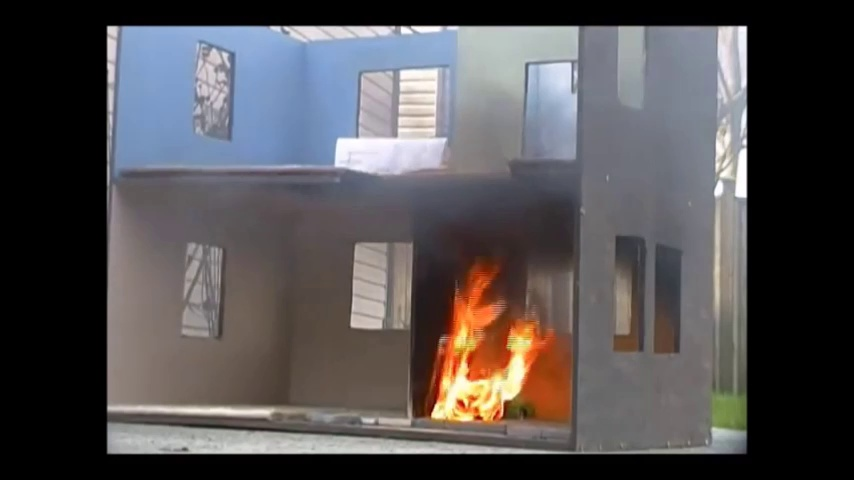fire: (432, 277, 533, 420)
